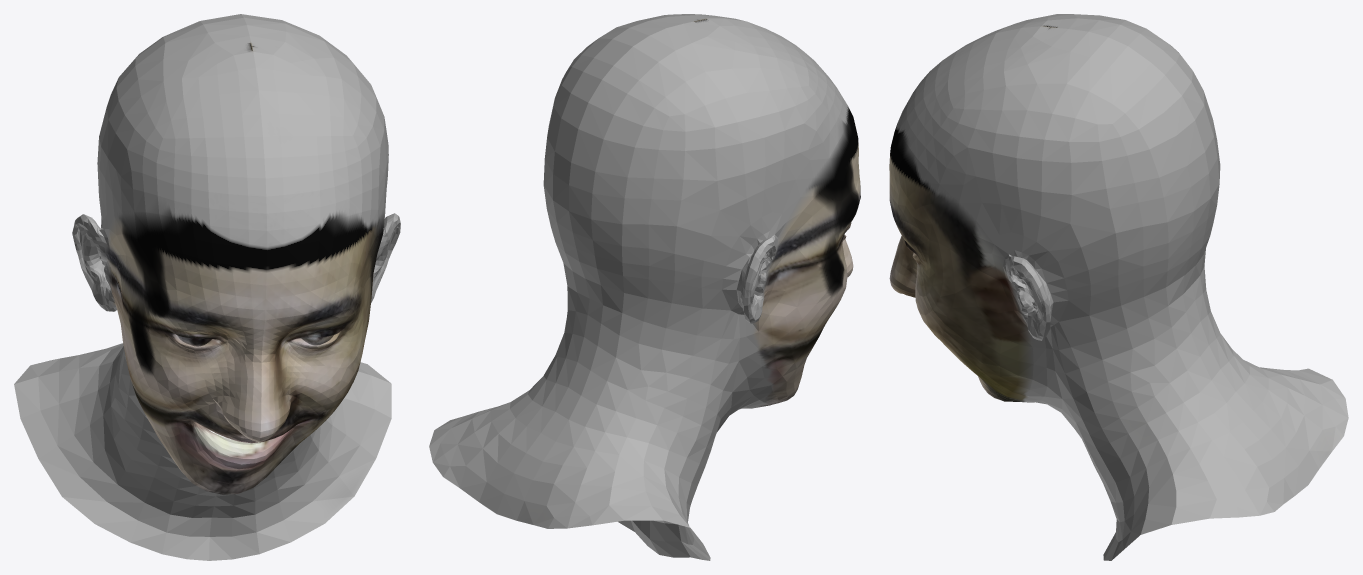
File: ezgif-frame-007.obj
The picture shows the model from 3 angles, left to right: view 1: azimuth 30°, elevation 25°; view 2: azimuth 150°, elevation 25°; view 3: azimuth 270°, elevation 25°; orthographic projection. The views are drawn at different scales.
Size of the model in its own units: 0.2084 by 0.3266 by 0.2658.
Materials: 1 (1 with a texture image).
